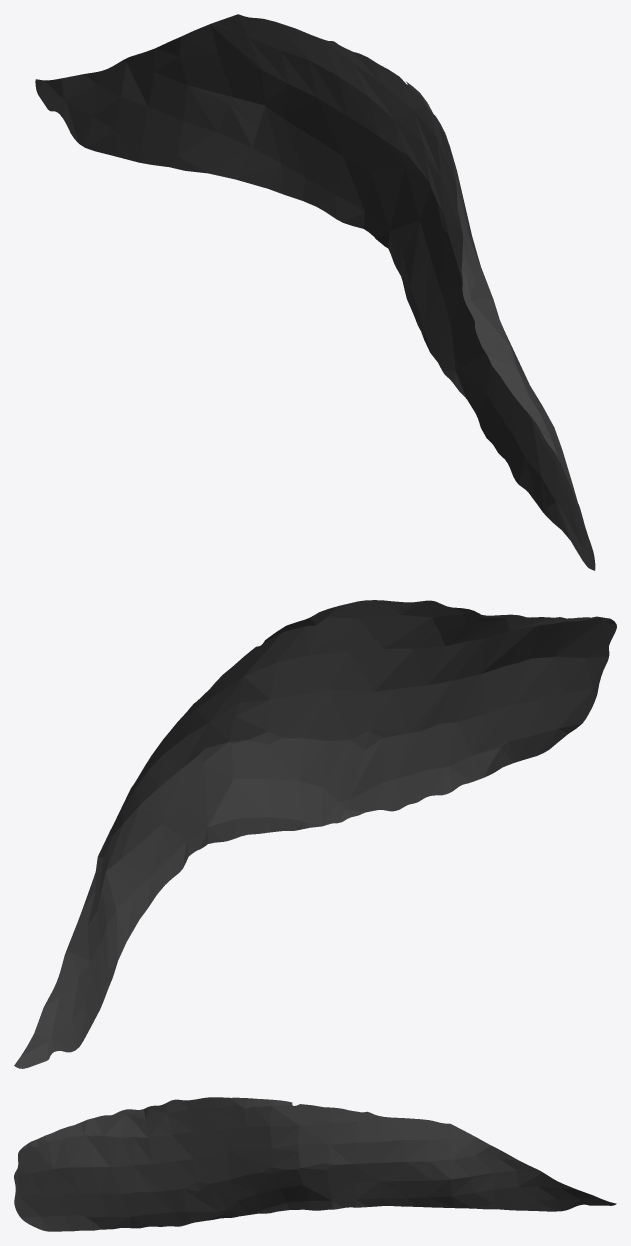
File: lig_lat_coll_prox_interphalang.glb
3 views of the same model, one above another, from view 1: azimuth 30°, elevation 25°; view 2: azimuth 150°, elevation 25°; view 3: azimuth 270°, elevation 25° (orthographic). The views are drawn at different scales.
Visible parts, largest first — view 1: lig_lat_coll_prox_interphalang; view 2: lig_lat_coll_prox_interphalang; view 3: lig_lat_coll_prox_interphalang.
Part boxes in pixels (x1,y1,x2,y2): lig_lat_coll_prox_interphalang: (35,14,595,570); lig_lat_coll_prox_interphalang: (14,600,616,1068); lig_lat_coll_prox_interphalang: (14,1097,616,1231).
Size of the model in its own units: 0.0179 by 0.0315 by 0.1177.
Materials: 1 (1 with a texture image).
